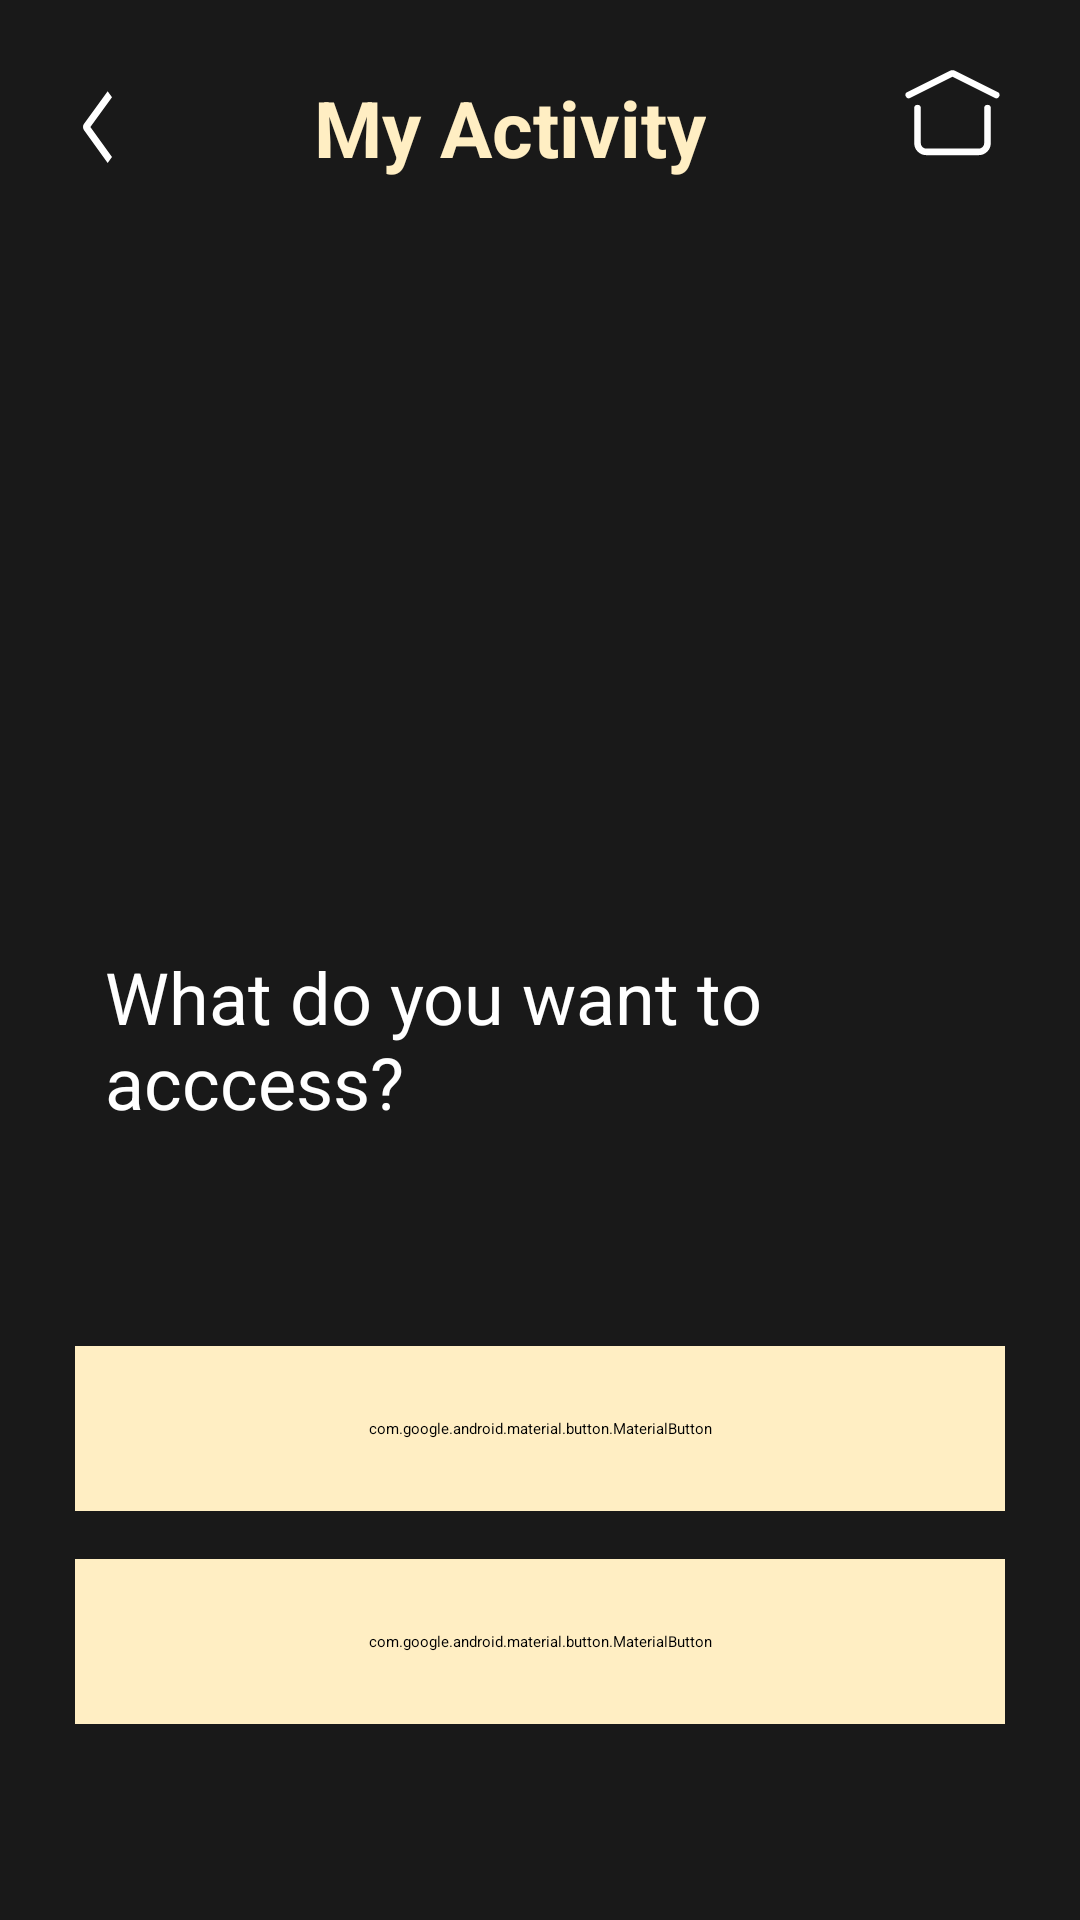

Icons on this 1080w x 1920h Android screen, each with the point to tap as (x=x, y=y):
back: (x=97, y=127)
home: (x=952, y=113)
